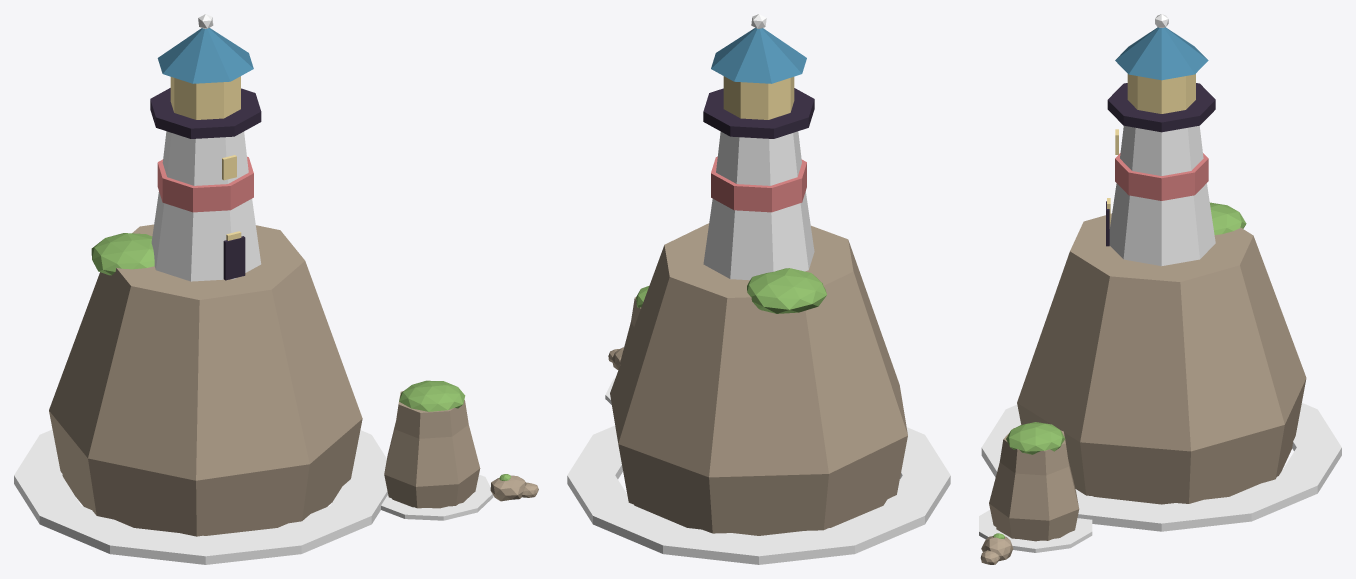
Rendered from ocean-g2.glb.
3 views of the same model, side by side, from view 1: azimuth 30°, elevation 25°; view 2: azimuth 150°, elevation 25°; view 3: azimuth 270°, elevation 25° (orthographic). The views are drawn at different scales.
Parts seen in each view (by area): view 1: ocean-g2; view 2: ocean-g2; view 3: ocean-g2.
Boxes of the visible parts, x1,y1,x2,y2 form: ocean-g2: (14, 14, 538, 564); ocean-g2: (567, 14, 950, 564); ocean-g2: (979, 14, 1341, 564).
Size of the model in its own units: 2.45 by 2.71 by 2.01.
